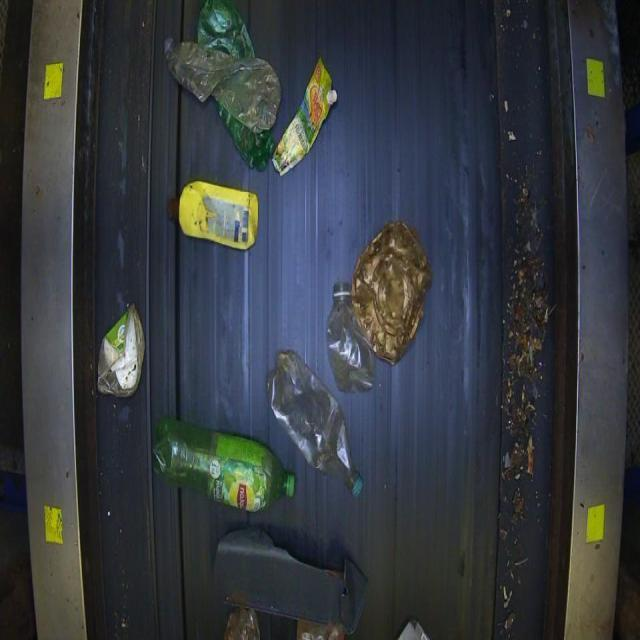bottles: (151, 416, 296, 513)
trashbin: (211, 524, 368, 639)
